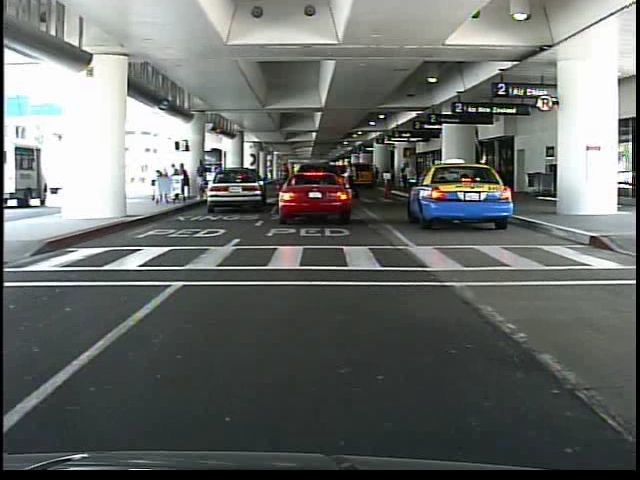person: (277, 160, 293, 206), (346, 159, 359, 201), (405, 164, 419, 199), (399, 159, 411, 195), (199, 161, 209, 200), (331, 168, 341, 202)
